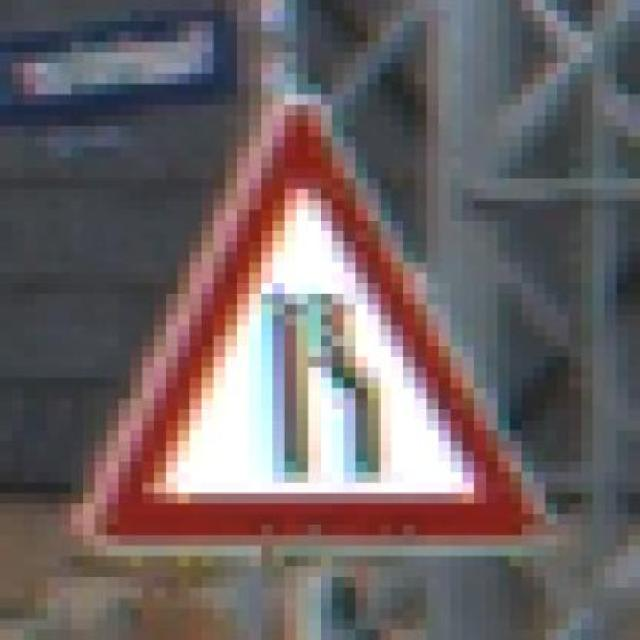-Road narrows on right: (47, 84, 558, 556)
